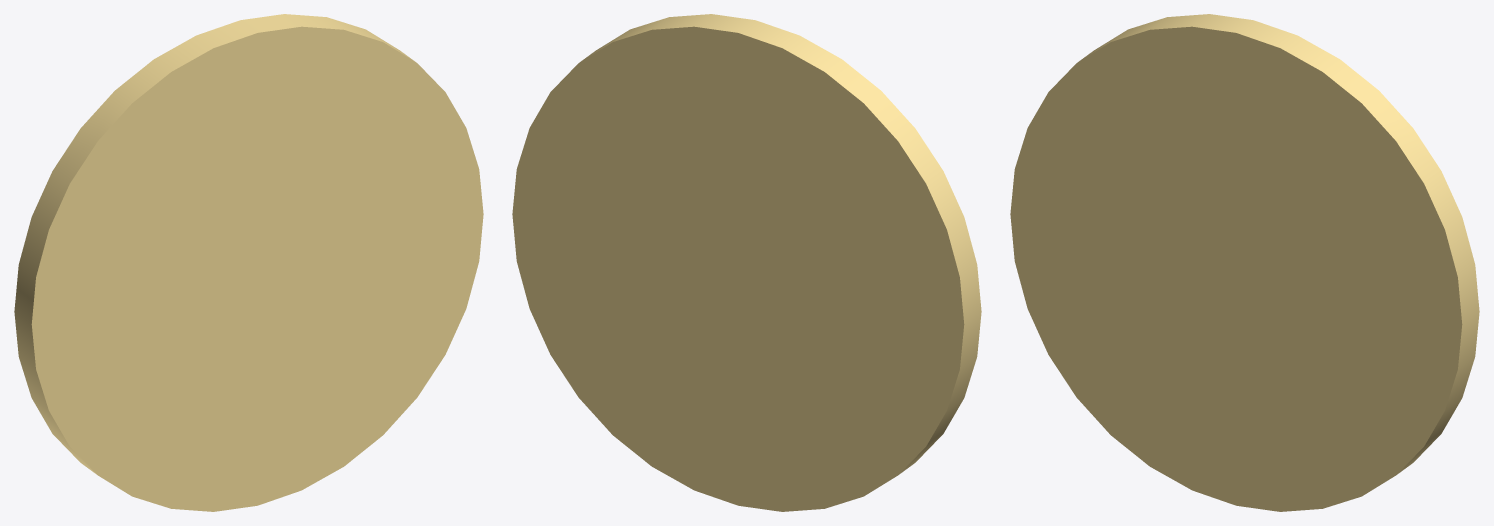
The model's file is gold_coin.glb.
The picture shows the model from 3 angles, left to right: view 1: azimuth 30°, elevation 25°; view 2: azimuth 150°, elevation 25°; view 3: azimuth 330°, elevation 25°; orthographic projection.
Parts seen in each view (by area): view 1: Gold Coin; view 2: Gold Coin; view 3: Gold Coin.
Boxes of the visible parts, x1,y1,x2,y2 form: Gold Coin: [14, 14, 483, 511]; Gold Coin: [512, 14, 981, 511]; Gold Coin: [1010, 14, 1479, 511].
Size of the model in its own units: 0.0267 by 0.0267 by 0.00178.
